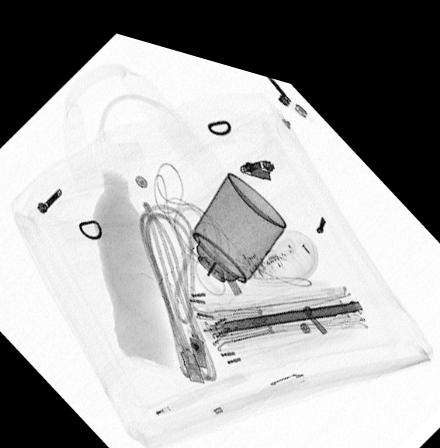Sprayer: (178, 157, 286, 291)
